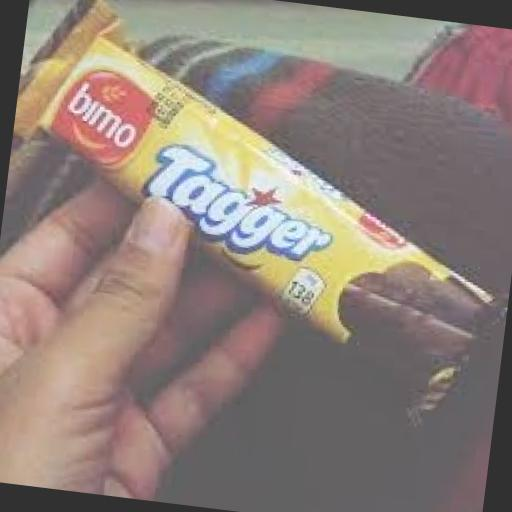tagger: (8, 0, 512, 395)
